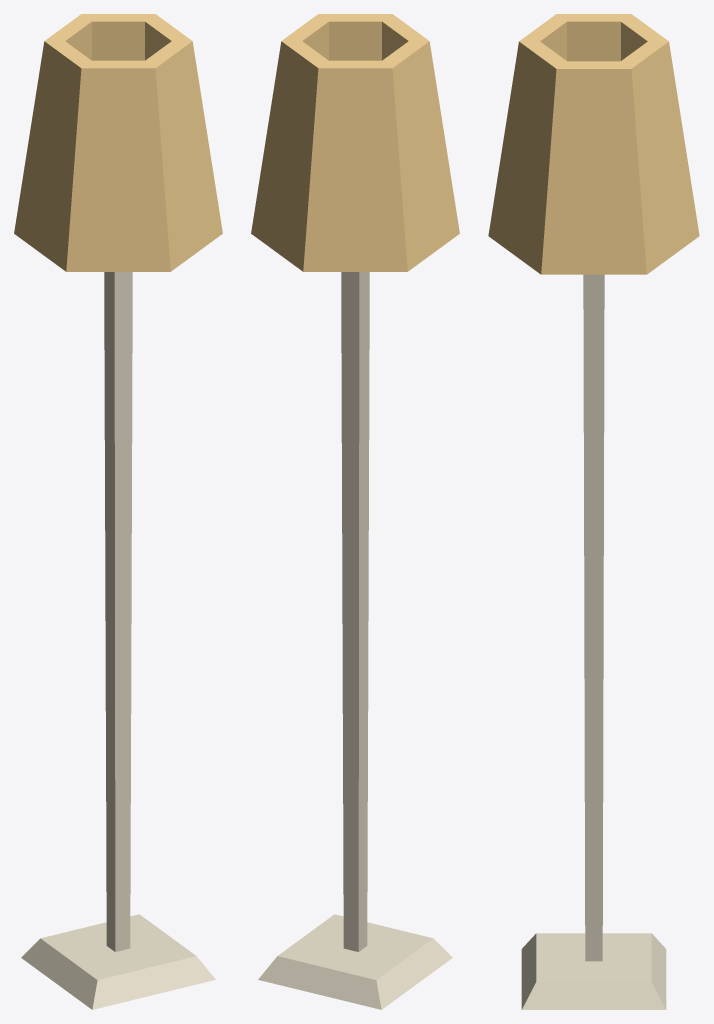
Rendered from lamp_floor.glb.
3 views of the same model, side by side, from view 1: azimuth 30°, elevation 25°; view 2: azimuth 150°, elevation 25°; view 3: azimuth 270°, elevation 25° (orthographic).
Visible parts, largest first — view 1: lamp_floor; view 2: lamp_floor; view 3: lamp_floor.
Part boxes in pixels (x1,y1,x2,y2): lamp_floor: (14,14,222,1009); lamp_floor: (251,14,459,1009); lamp_floor: (488,14,699,1009).
Size of the model in its own units: 0.3005 by 1.7 by 0.347.
